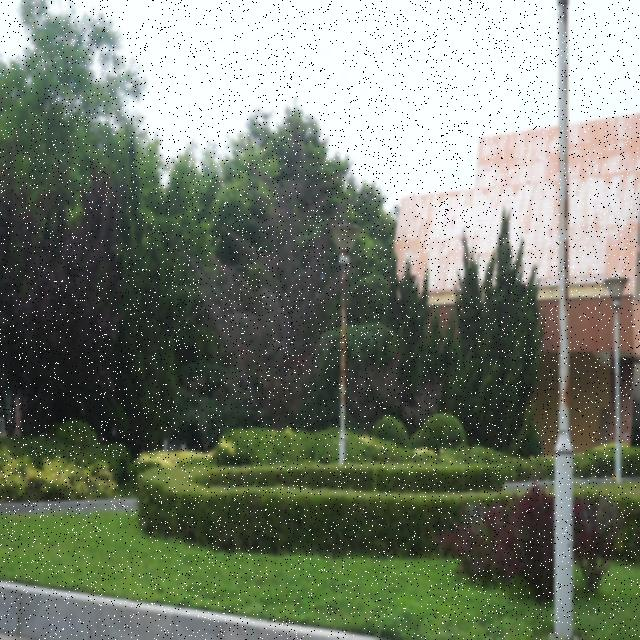UAV: (253, 108, 278, 124)
